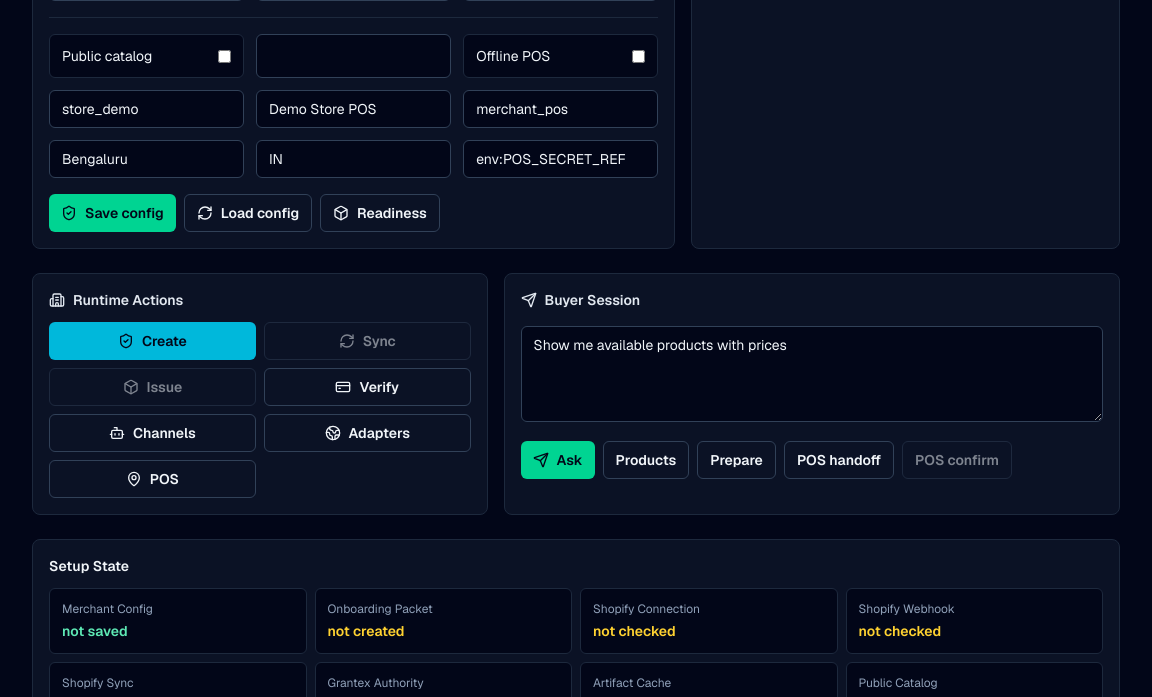
Test: CommerceRuntimeDemo › creates an onboarding packet and answers from cached artifact labels
(page scrolled)
Click the button "Create" at x=152, y=341, box x1=49 y1=322 x2=256 y2=360
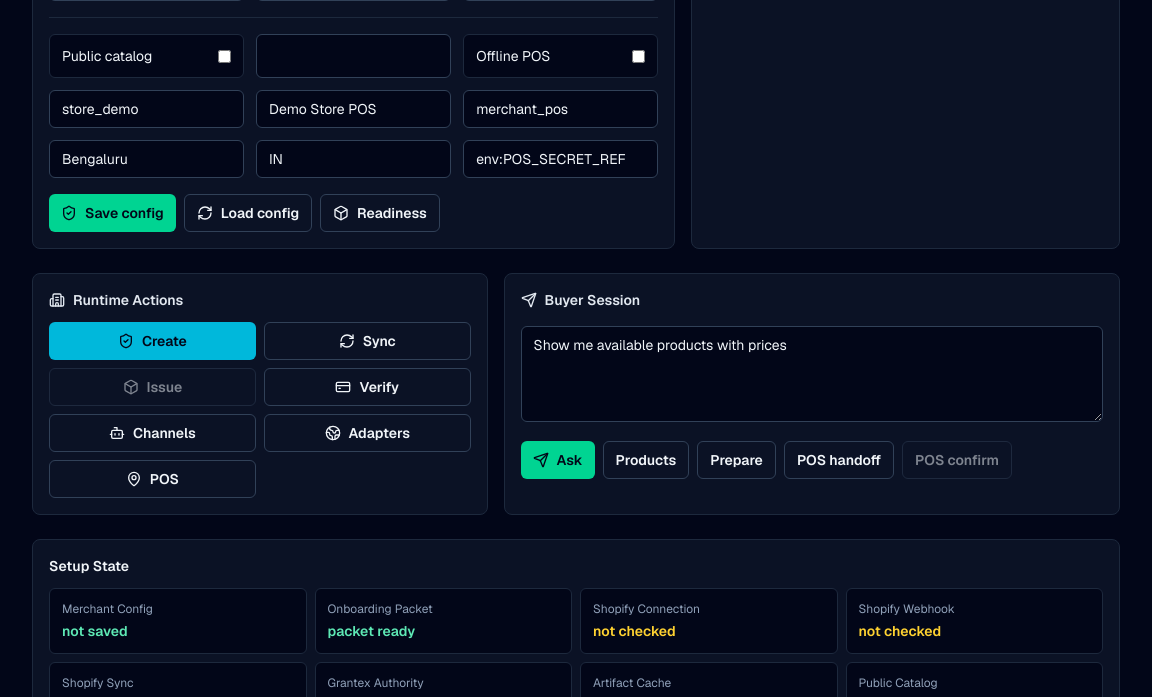
Click the button "Ask" at x=558, y=460, box x1=521 y1=441 x2=595 y2=479
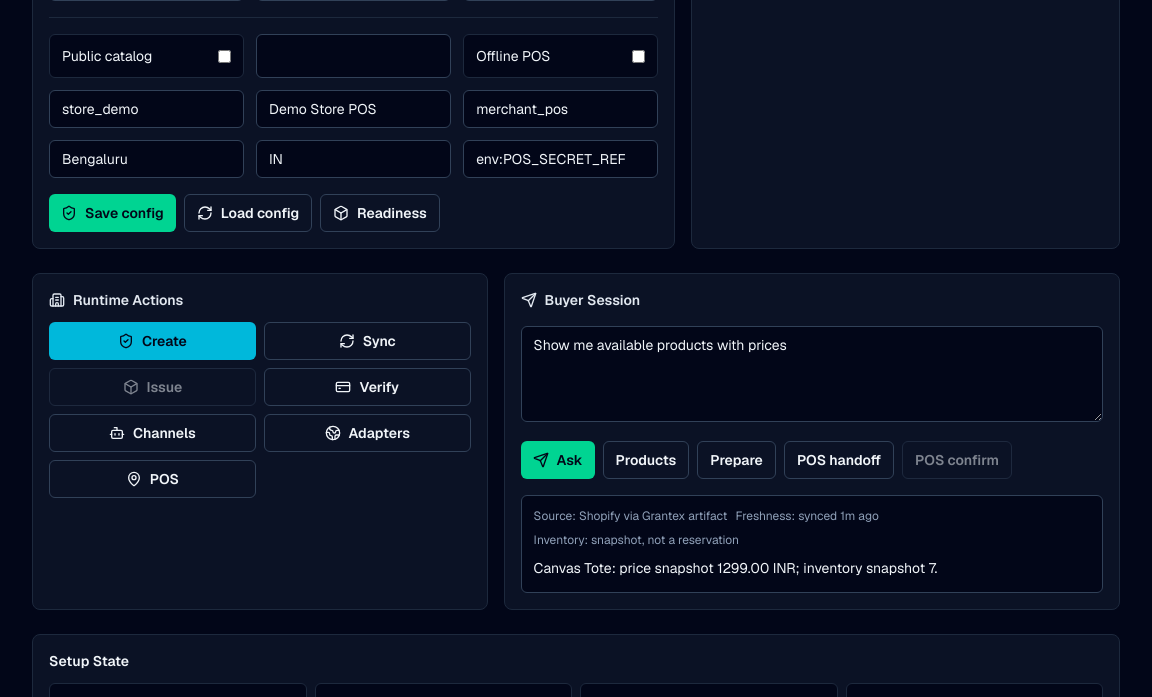
Check: the text "Source: Shopify via Grantex artifact" is shown, box x1=534 y1=508 x2=728 y2=524
Check: the text "inventory snapshot" is shown, box x1=534 y1=559 x2=937 y2=577
